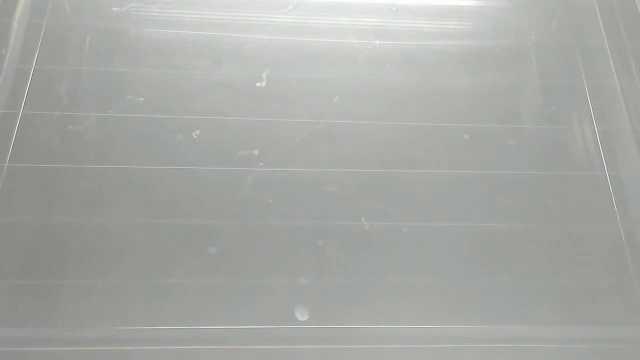alpha: (290, 302, 314, 324)
